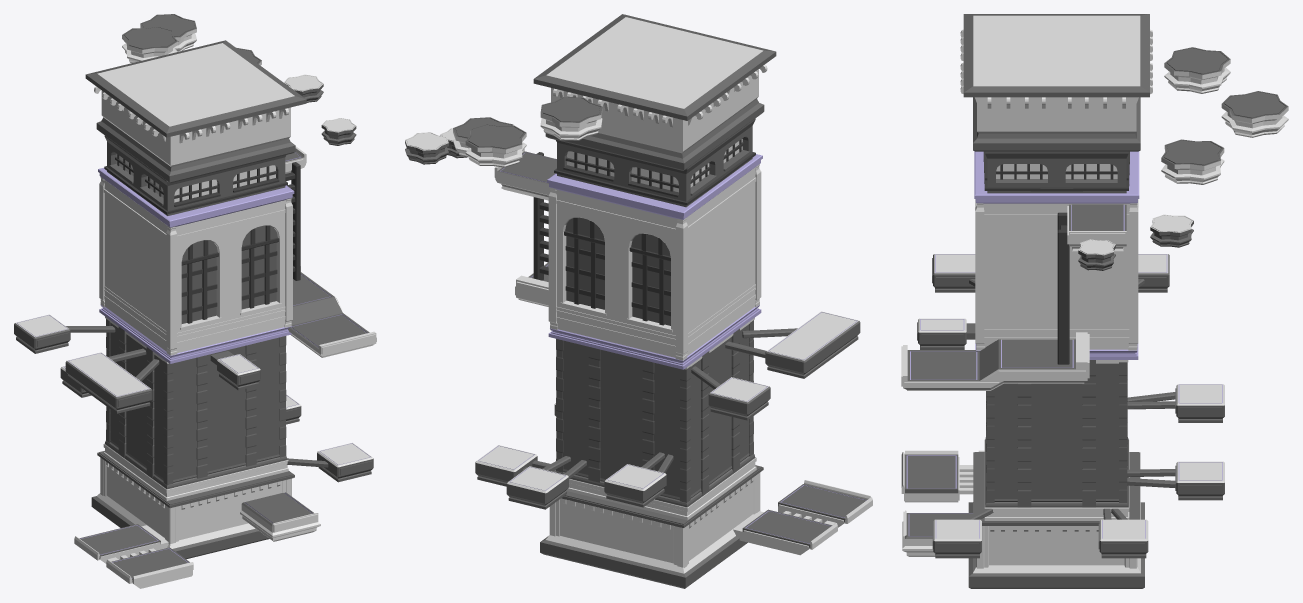
The model's file is floor5.fbx.
The picture shows the model from 3 angles, left to right: view 1: azimuth 30°, elevation 25°; view 2: azimuth 150°, elevation 25°; view 3: azimuth 270°, elevation 25°; orthographic projection. The views are drawn at different scales.
Visible parts, largest first — view 1: floor5.2, floor5.4, floor5.1, floor5.1Extras, floor5.0, floor5.0Extras, floor5.1Decor, floor5.3, floor5.2Decor, floor5.2Extras, floor5.4Extras, floor5.3Extras (+2 smaller); view 2: floor5.2, floor5.4, floor5.1, floor5.1Extras, floor5.0, floor5.1Decor, floor5.3, floor5.2Decor, floor5.0Extras, floor5.4Extras, floor5.2Extras, floor5.0Decor (+2 smaller); view 3: floor5.4, floor5.2, floor5.1, floor5.1Extras, floor5.2Extras, floor5.0, floor5.4Extras, floor5.3, floor5.1Decor, floor5.0Extras, floor5.2Decor, floor5.3Extras (+2 smaller).
Part boxes in pixels (box(x1,y1,x2,y2)): floor5.2: box(98, 168, 294, 363); floor5.4: box(85, 40, 306, 182); floor5.1: box(103, 316, 288, 500); floor5.1Extras: box(14, 314, 373, 482); floor5.0: box(91, 451, 294, 559); floor5.0Extras: box(74, 492, 320, 588); floor5.1Decor: box(106, 319, 286, 485); floor5.3: box(104, 135, 287, 215); floor5.2Decor: box(99, 177, 292, 355); floor5.2Extras: box(285, 146, 376, 357); floor5.4Extras: box(122, 14, 261, 65); floor5.3Extras: box(284, 74, 356, 145); floor5.2: box(547, 154, 762, 369); floor5.4: box(533, 14, 776, 170); floor5.1: box(555, 318, 756, 520); floor5.1Extras: box(475, 311, 860, 509); floor5.0: box(540, 465, 763, 588); floor5.1Decor: box(556, 320, 753, 502); floor5.3: box(554, 118, 755, 207); floor5.2Decor: box(548, 164, 761, 360); floor5.0Extras: box(733, 480, 872, 555); floor5.4Extras: box(453, 97, 602, 167); floor5.2Extras: box(494, 149, 556, 306); floor5.0Decor: box(549, 472, 760, 567); floor5.4: box(963, 14, 1149, 151); floor5.2: box(974, 151, 1139, 359); floor5.1: box(984, 360, 1129, 520); floor5.1Extras: box(917, 254, 1224, 558); floor5.2Extras: box(901, 204, 1126, 390); floor5.0: box(968, 452, 1144, 588); floor5.4Extras: box(1161, 47, 1288, 184); floor5.3: box(983, 151, 1129, 193); floor5.1Decor: box(986, 360, 1127, 507); floor5.0Extras: box(901, 450, 984, 556); floor5.2Decor: box(975, 199, 1138, 350); floor5.3Extras: box(1078, 214, 1193, 270).
Size of the model in its own units: 514 by 694 by 485.
